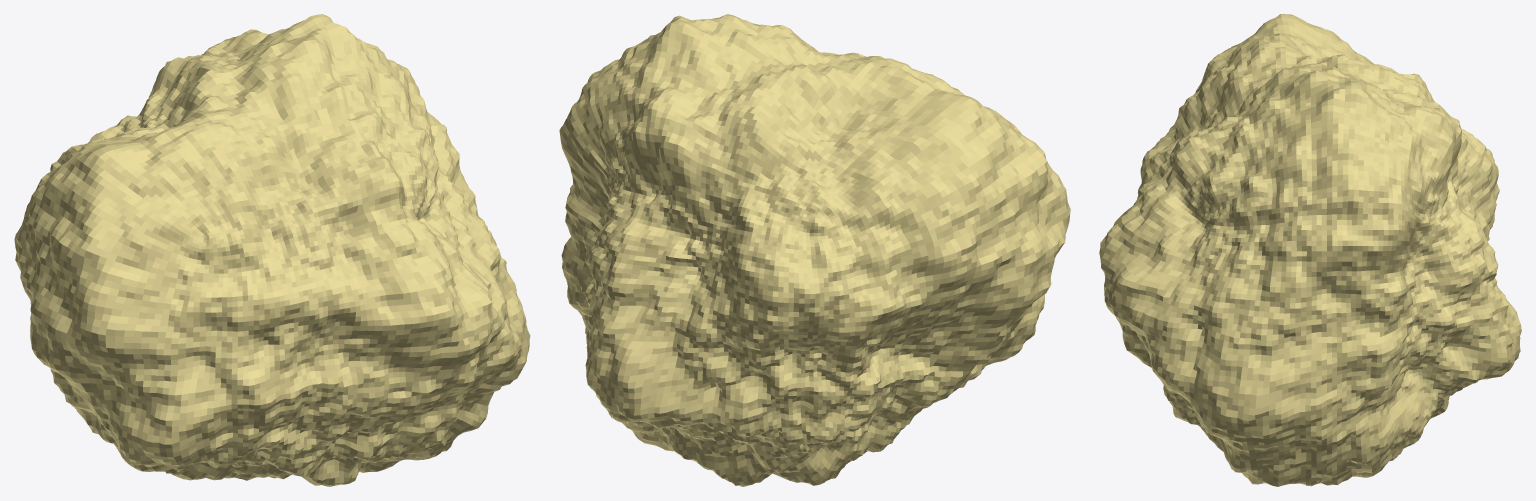
File: Asteroid Test2.fbx
The picture shows the model from 3 angles, left to right: view 1: azimuth 30°, elevation 25°; view 2: azimuth 150°, elevation 25°; view 3: azimuth 270°, elevation 25°; orthographic projection. The views are drawn at different scales.
Parts seen in each view (by area): view 1: Cube; view 2: Cube; view 3: Cube.
Boxes of the visible parts, box(x1,y1,x2,y2) form: Cube: box(14, 14, 530, 486); Cube: box(559, 14, 1070, 486); Cube: box(1099, 14, 1521, 486).
Size of the model in its own units: 194 by 167 by 167.
